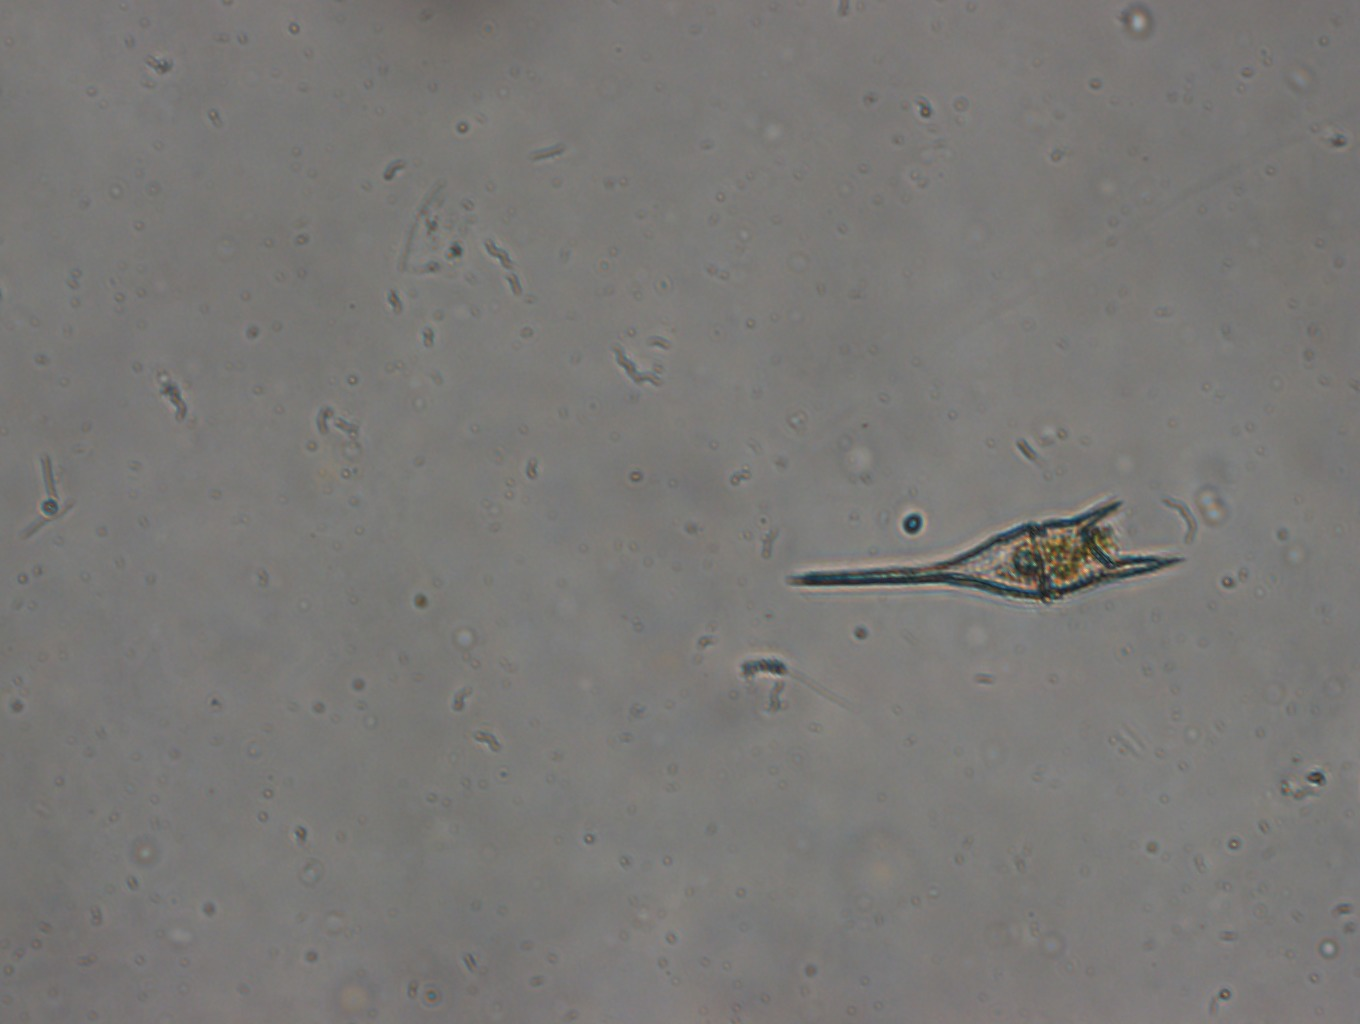ceratium furca: (786, 494, 1199, 608)
